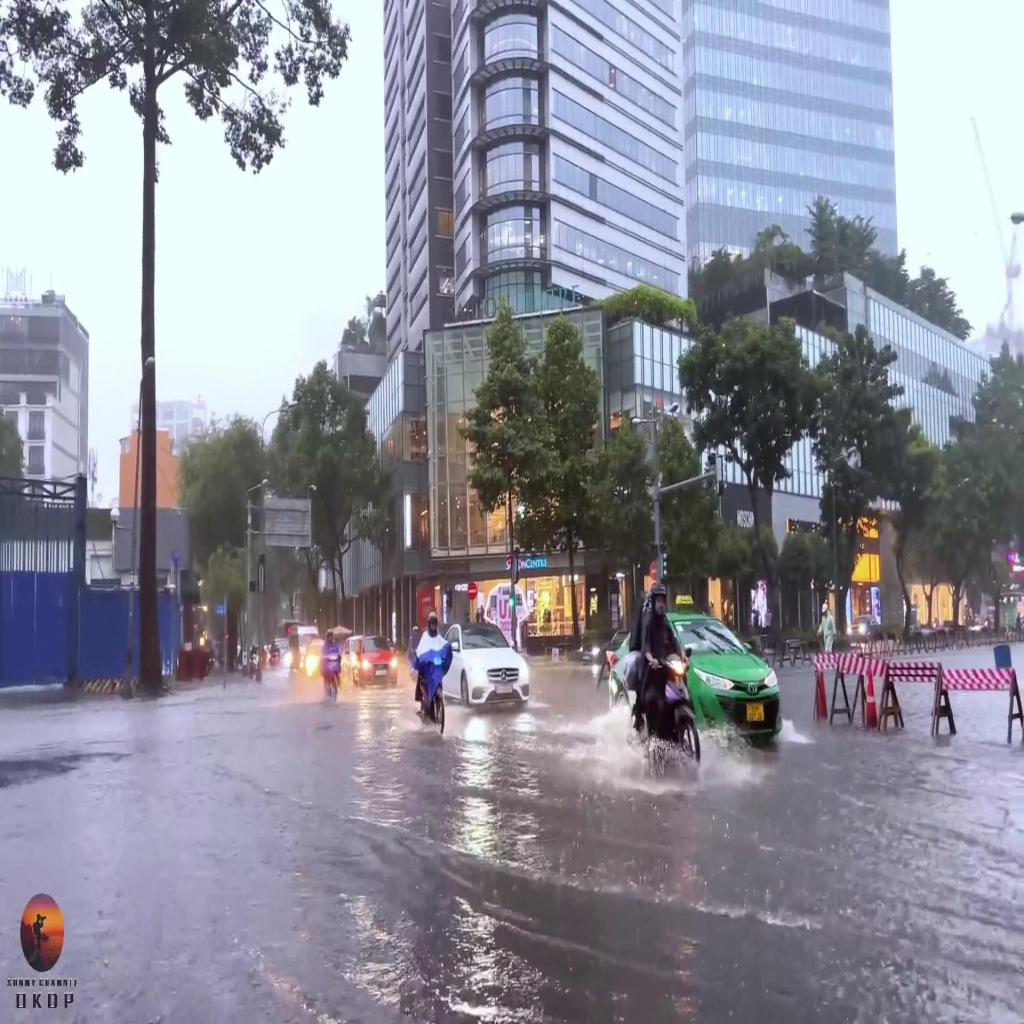cam_xe_di_nguoc_chieu: (467, 582, 478, 601), (650, 562, 657, 582)
